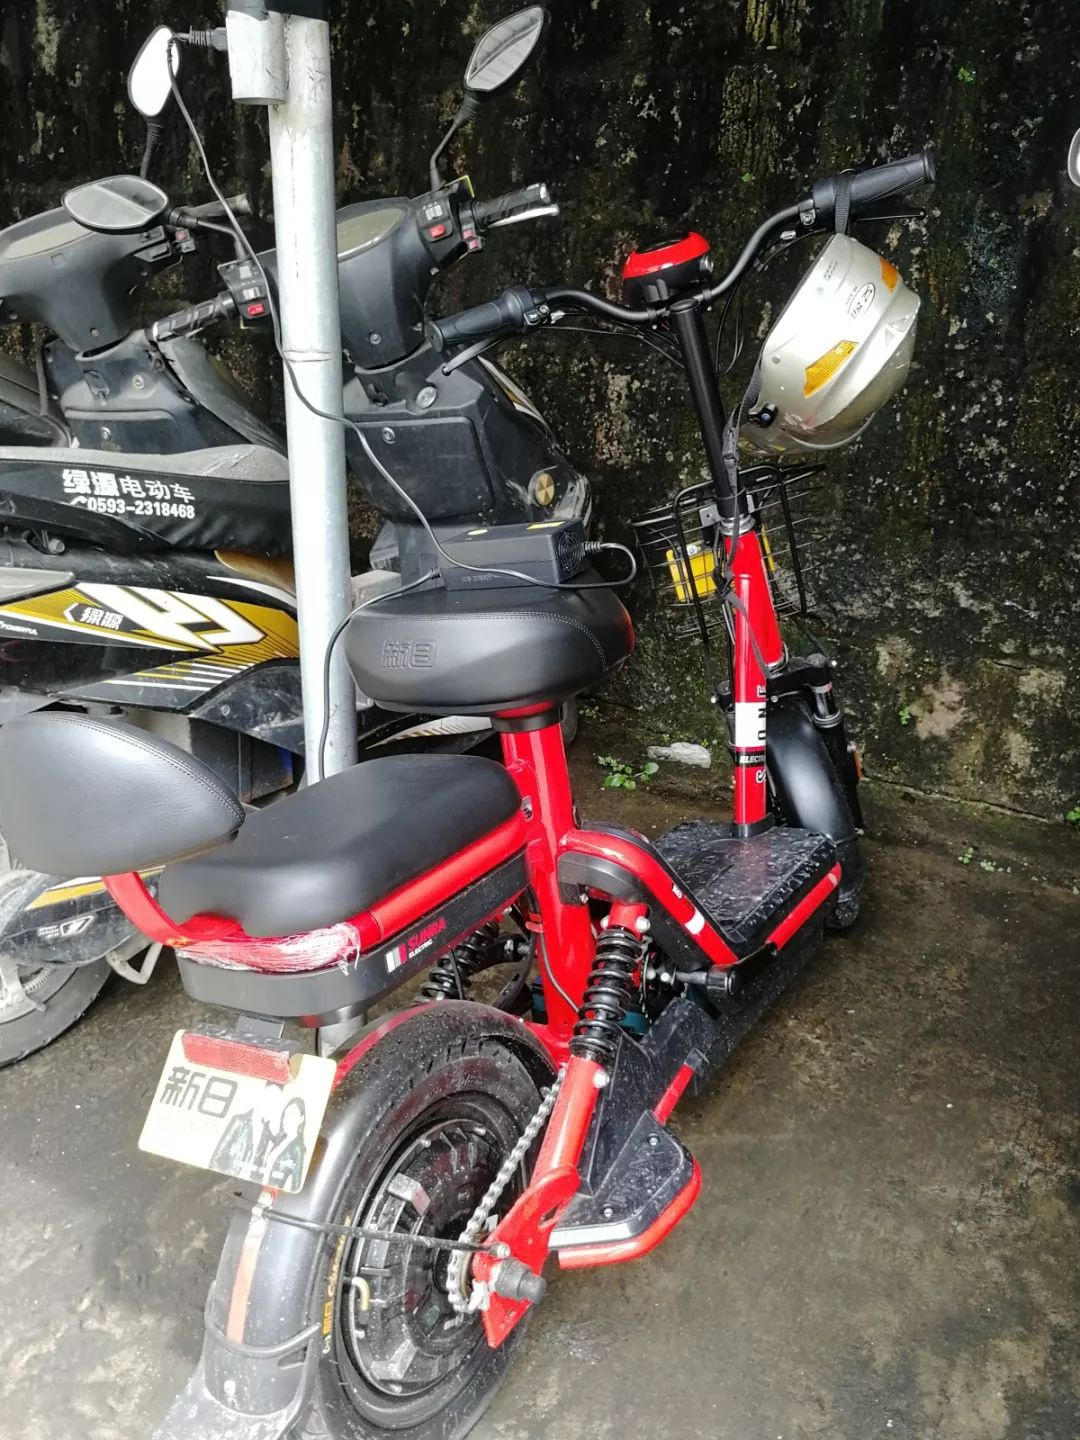non-vehicle: (169, 144, 933, 1440), (1, 145, 543, 1056)
